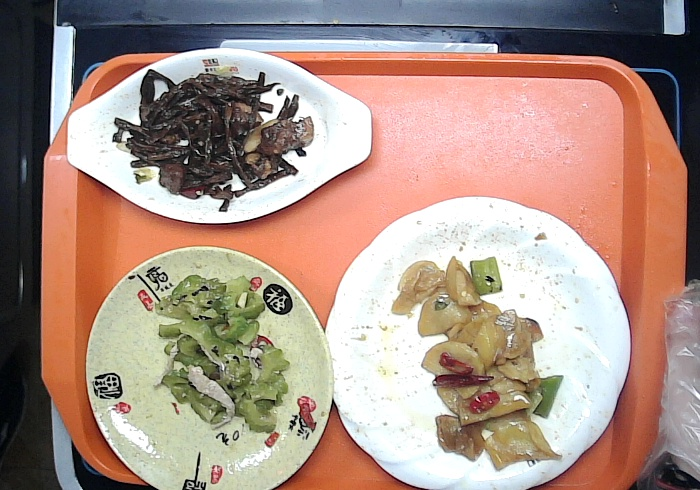NLDX-Bai_Zhe_Yuan_Pan: (327, 195, 632, 490)
NLDX-Fu_Zi_Yuan_Pan: (82, 243, 333, 490)
NLDX-Yu_Pan: (65, 47, 374, 227)
